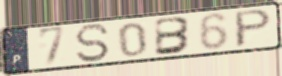0: (116, 21, 151, 58)
6: (198, 10, 231, 53)
7: (37, 24, 67, 70)
B: (153, 15, 193, 57)
P: (234, 8, 275, 50)
S: (73, 23, 111, 64)
